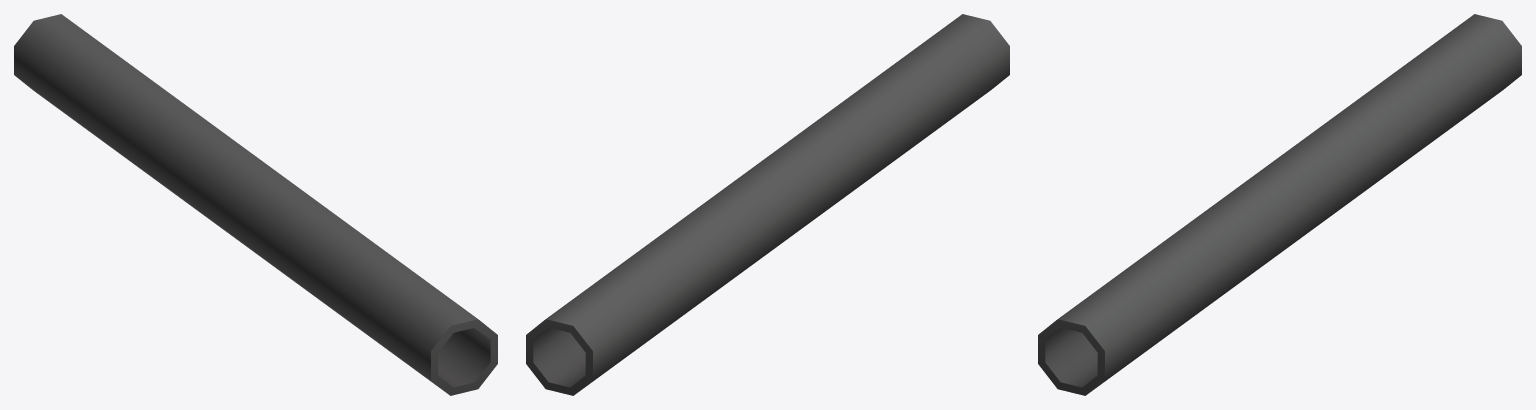
Rendered from Pipe_C_1_4.fbx.
3 renders of one model, left to right at view 1: azimuth 30°, elevation 25°; view 2: azimuth 150°, elevation 25°; view 3: azimuth 330°, elevation 25°, orthographic.
Parts seen in each view (by area): view 1: Pipe_C_1_4; view 2: Pipe_C_1_4; view 3: Pipe_C_1_4.
Boxes of the visible parts, bbox=[...] form: Pipe_C_1_4: bbox=[14, 14, 497, 395]; Pipe_C_1_4: bbox=[526, 14, 1009, 395]; Pipe_C_1_4: bbox=[1038, 14, 1521, 395].
Size of the model in its own units: 51.05 by 51.05 by 551.
